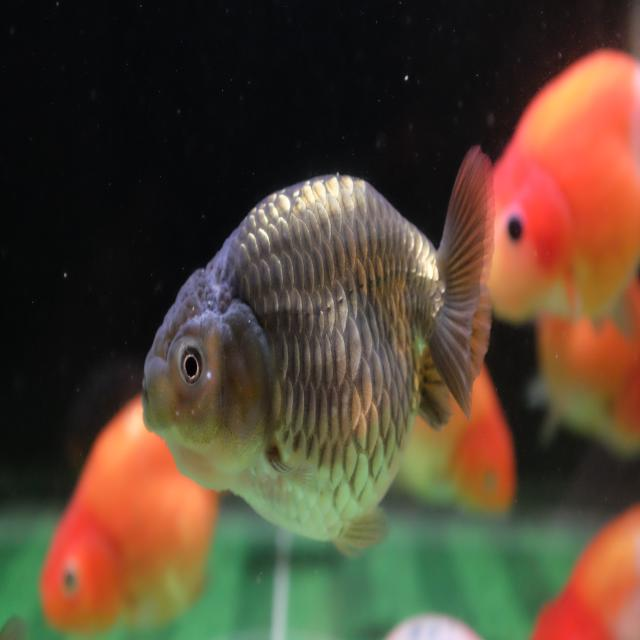Tilapia: (141, 140, 498, 560)
